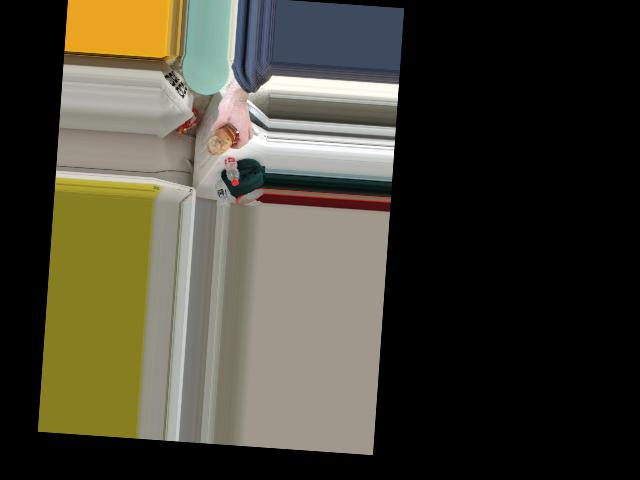sweet_potato: (207, 121, 236, 157)
